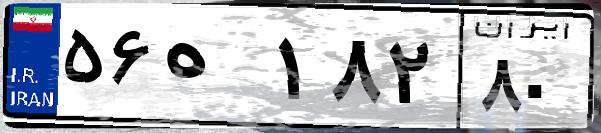0: (525, 38, 570, 115)
1: (270, 28, 330, 110)
2: (385, 28, 445, 110)
5: (57, 26, 110, 100)
6: (110, 28, 158, 98)
8: (330, 28, 385, 110), (475, 38, 525, 113)
ه: (158, 20, 270, 120)
